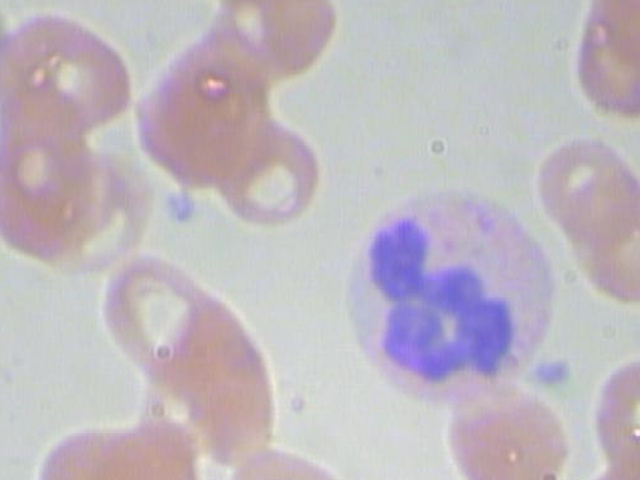Platelets: (525, 353, 576, 395), (153, 184, 204, 226)
RBC: (0, 2, 144, 139), (91, 249, 224, 381), (0, 111, 107, 269), (204, 110, 336, 231), (140, 31, 272, 152), (204, 0, 354, 91), (535, 137, 640, 259), (20, 411, 189, 480), (556, 181, 640, 303), (573, 0, 640, 119), (208, 431, 358, 480)
WBC: (344, 178, 565, 410)
